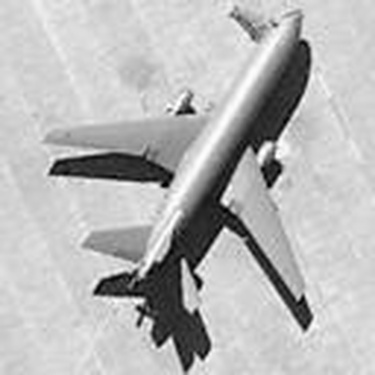airplane: (1, 3, 353, 367)
